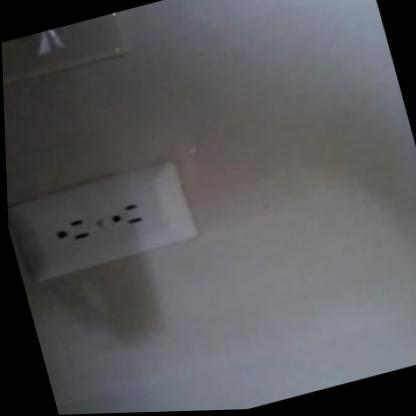OUTLET: (6, 158, 200, 287)
